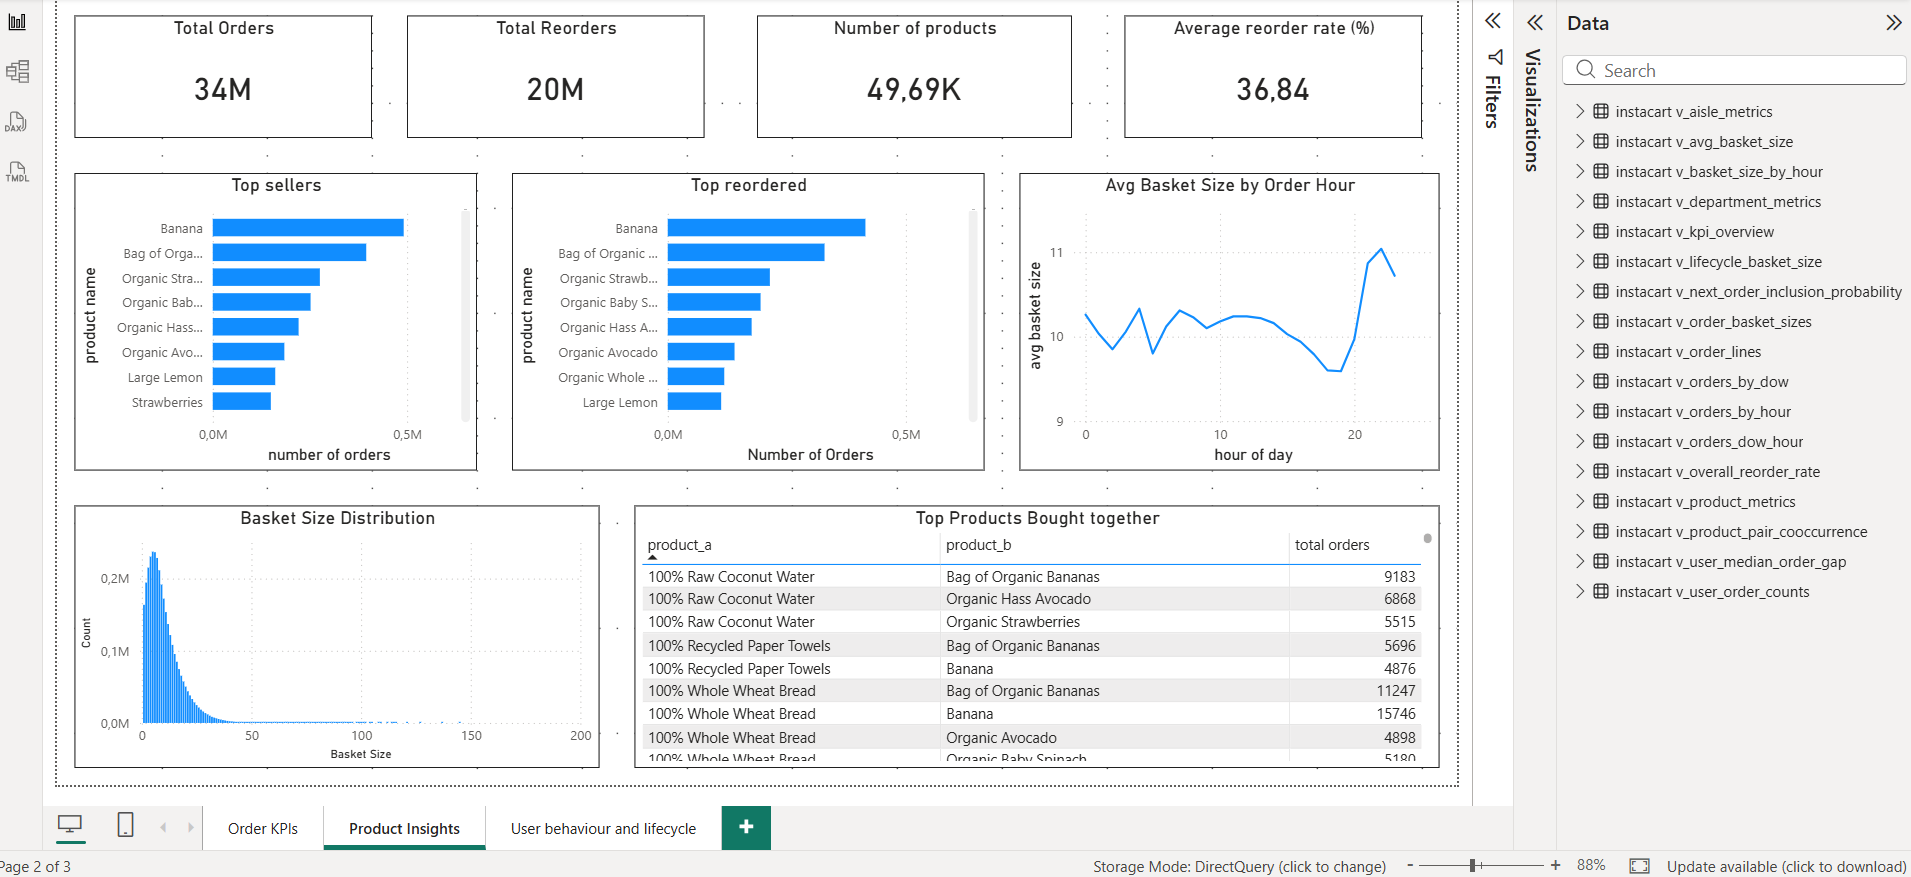

What the dashboard file says about the page in this screenshot:
{"tool":"powerbi","page":{"name":"Product Insights","canvas":[1280,720],"ordinal":1},"visuals":[{"type":"clusteredBarChart","title":"Top sellers","fields":{"Category":["instacart v_product_metrics.product_name"],"Y":["Sum(instacart v_product_metrics.order_count)"]},"box":[16,160,368,272],"z":0},{"type":"clusteredBarChart","title":"Top reordered","fields":{"Category":["instacart v_product_metrics.product_name"],"Y":["Sum(instacart v_product_metrics.reorder_count)"]},"box":[416,160,432,272],"z":1000},{"type":"tableEx","title":"Top Products Bought together","fields":{"Values":["instacart v_product_pair_cooccurrence.product_a","instacart v_product_pair_cooccurrence.product_b","Sum(instacart v_product_pair_cooccurrence.order_count)"]},"box":[528,464,736,240],"z":2000},{"type":"lineChart","title":"Avg Basket Size by Order Hour","fields":{"Y":["Sum(instacart v_basket_size_by_hour.avg_basket_size)"],"Category":["instacart v_basket_size_by_hour.order_hour_of_day"]},"box":[880,160,384,272],"z":3000},{"type":"clusteredColumnChart","title":"Basket Size Distribution","fields":{"Category":["instacart v_order_basket_sizes.basket_size"],"Y":["CountNonNull(instacart v_order_basket_sizes.basket_size)"]},"box":[16,464,480,240],"z":4000},{"type":"card","title":"Total Orders","fields":{"Values":["Sum(instacart v_product_metrics.order_count)"]},"box":[16,16,272,112],"z":5000},{"type":"card","title":"Total Reorders","fields":{"Values":["Sum(instacart v_product_metrics.reorder_count)"]},"box":[320,16,272,112],"z":6000},{"type":"card","title":"Number of products","fields":{"Values":["Count(instacart v_product_metrics.product_id)"]},"box":[640,16,288,112],"z":7000},{"type":"card","title":"Average reorder rate (%)","fields":{"Values":["Avg(instacart v_product_metrics.reorder_rate_pct)"]},"box":[976,16,272,112],"z":8000}]}

Visuals, with their boxes on the page's 1280x720 design canvas (x1, y1, x2, y2). These are canvas units, not pixel positions in the 1911x877 screenshot, which may show the page scaled, cropped or inside an application window:
"Top sellers" clusteredBarChart: 16,160,384,432
"Top reordered" clusteredBarChart: 416,160,848,432
"Top Products Bought together" tableEx: 528,464,1264,704
"Avg Basket Size by Order Hour" lineChart: 880,160,1264,432
"Basket Size Distribution" clusteredColumnChart: 16,464,496,704
"Total Orders" card: 16,16,288,128
"Total Reorders" card: 320,16,592,128
"Number of products" card: 640,16,928,128
"Average reorder rate (%)" card: 976,16,1248,128
